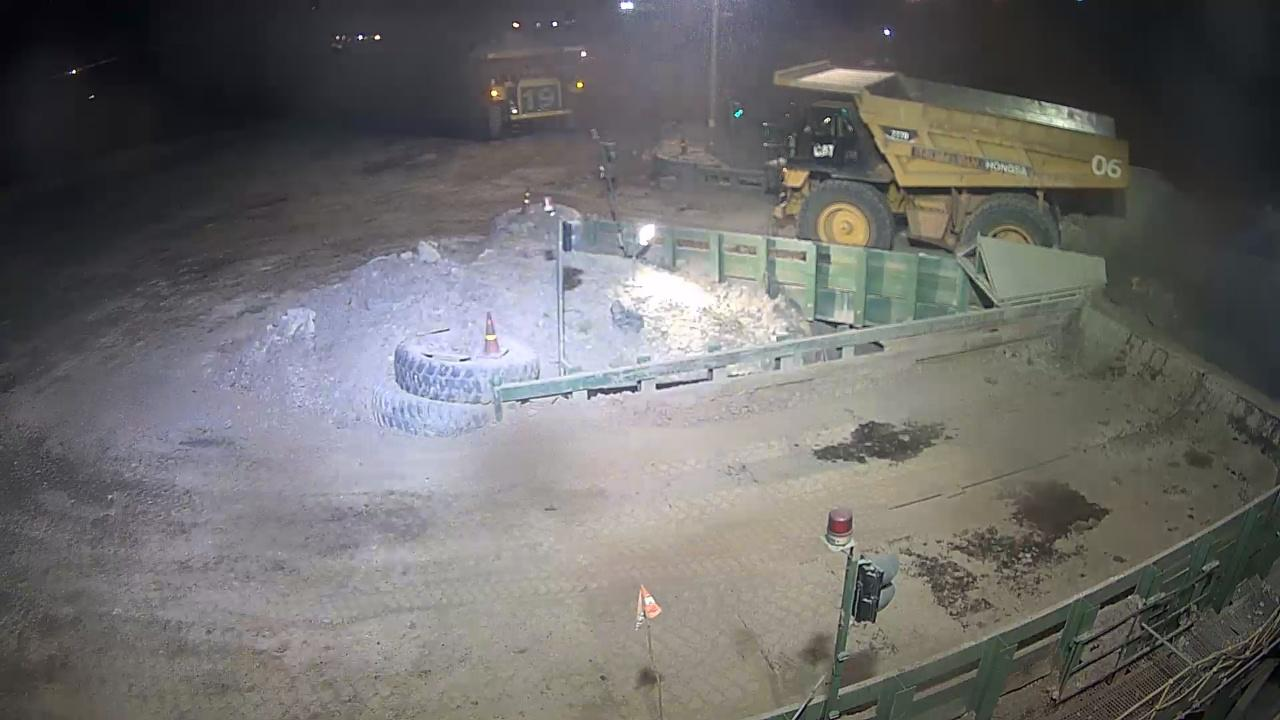front_number: (513, 80, 558, 113)
mining_truck: (758, 56, 1131, 254), (469, 34, 606, 141)
tail_number: (1089, 147, 1121, 181)
